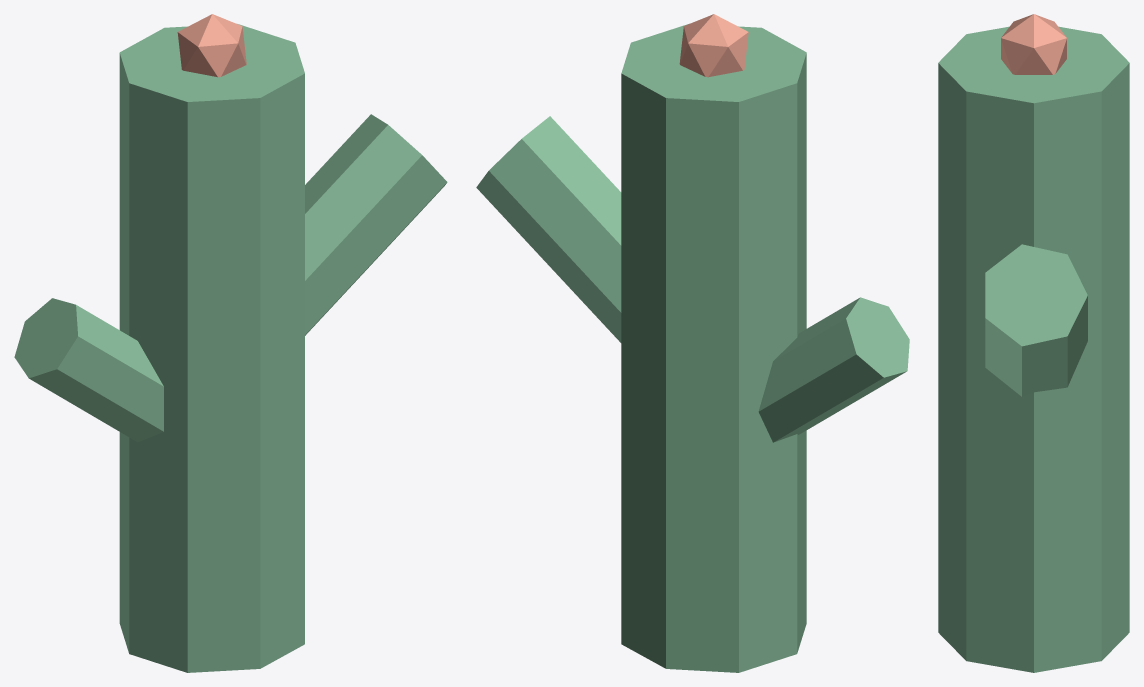
Rendered from cactus.glb.
3 renders of one model, left to right at view 1: azimuth 30°, elevation 25°; view 2: azimuth 150°, elevation 25°; view 3: azimuth 270°, elevation 25°, orthographic.
Parts seen in each view (by area): view 1: cactus; view 2: cactus; view 3: cactus.
Part boxes in pixels (bbox=[...]): cactus: bbox=[14, 14, 447, 672]; cactus: bbox=[476, 14, 909, 672]; cactus: bbox=[938, 14, 1129, 672].
Size of the model in its own units: 1.6 by 2.28 by 0.64.
